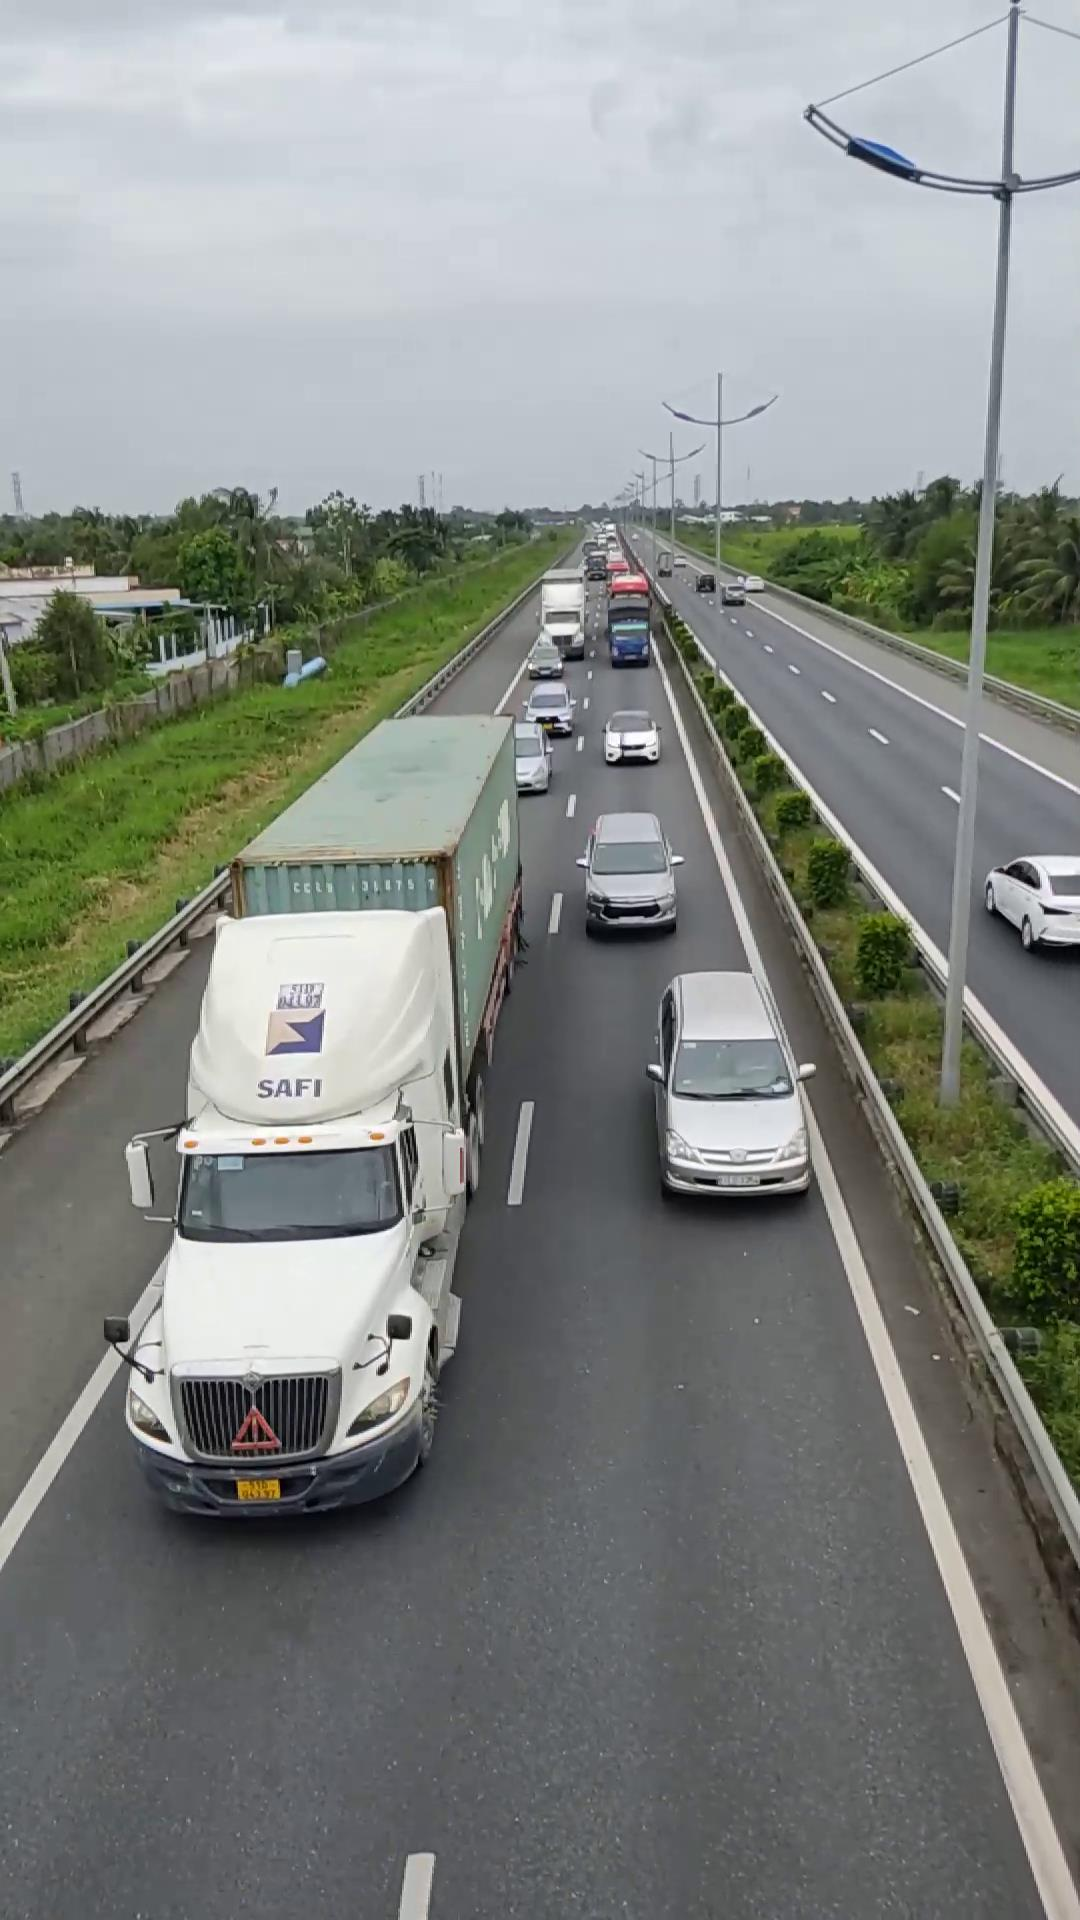car: (643, 966, 814, 1200), (982, 852, 1080, 953), (578, 853, 680, 938)
container: (127, 708, 528, 1520)
